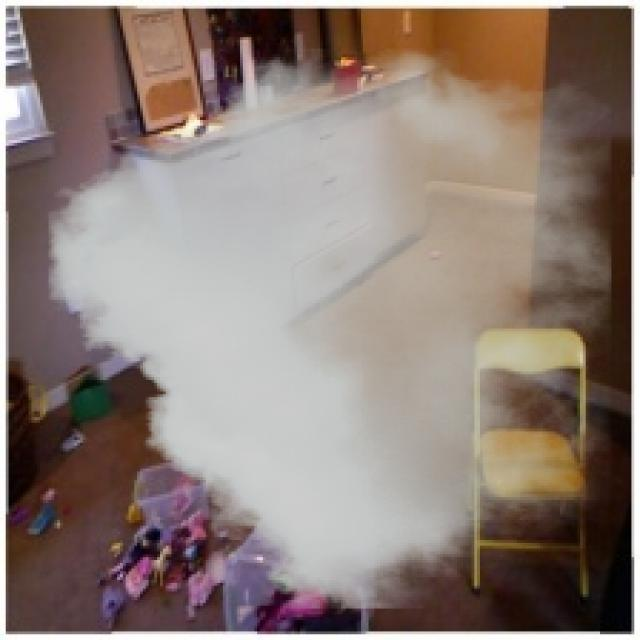smoke: (49, 49, 612, 608)
